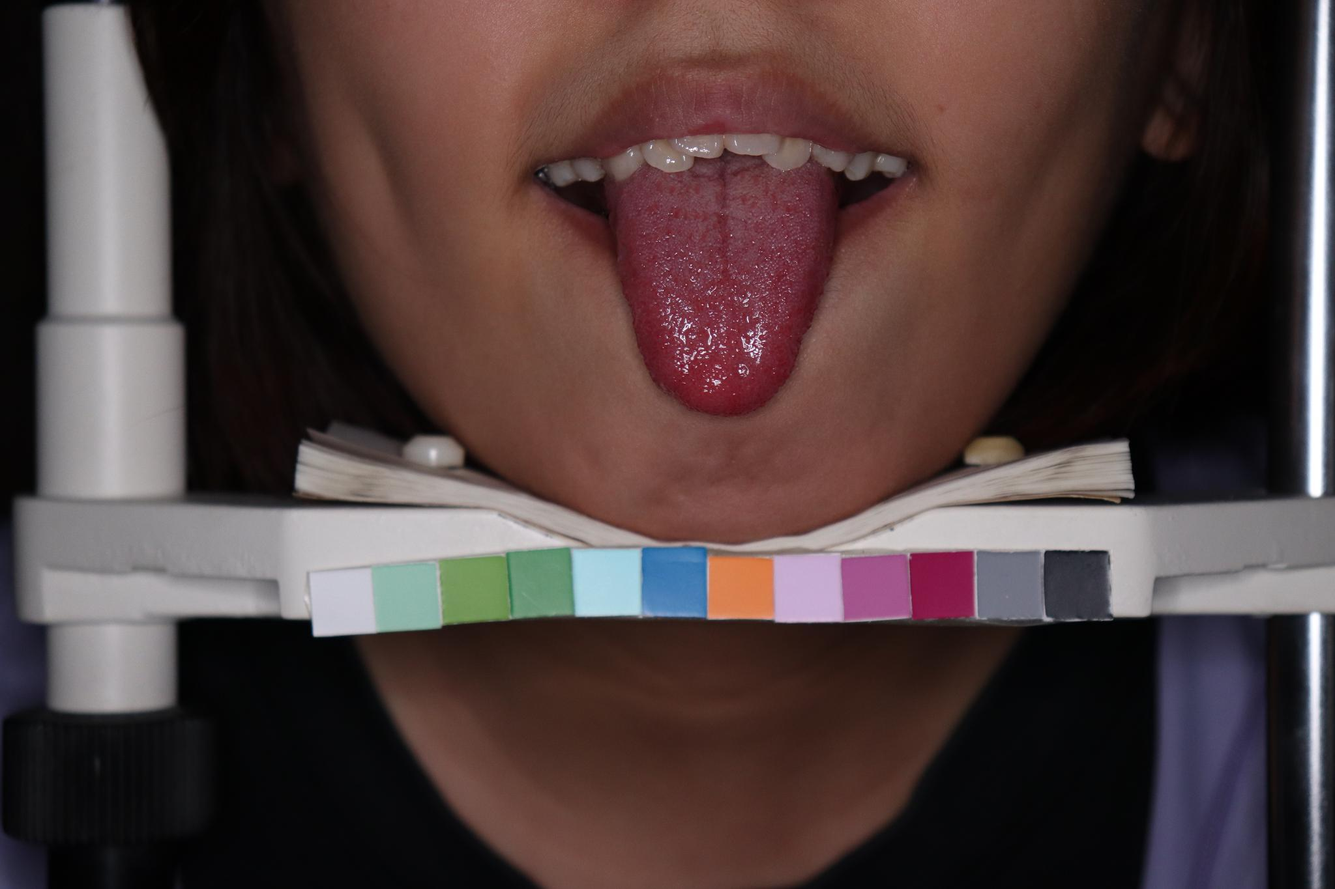baitaishe: (602, 149, 836, 416)
hongdianshe: (733, 339, 739, 345)
hongshe: (602, 149, 836, 416)
